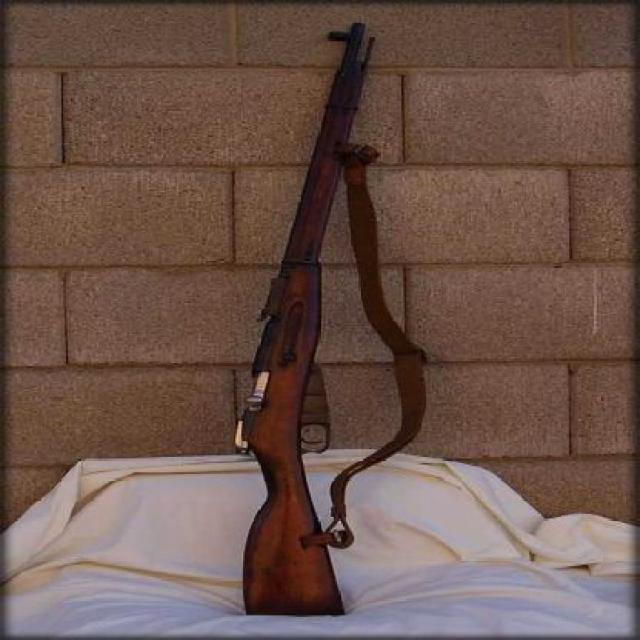weapon: (232, 18, 414, 618)
